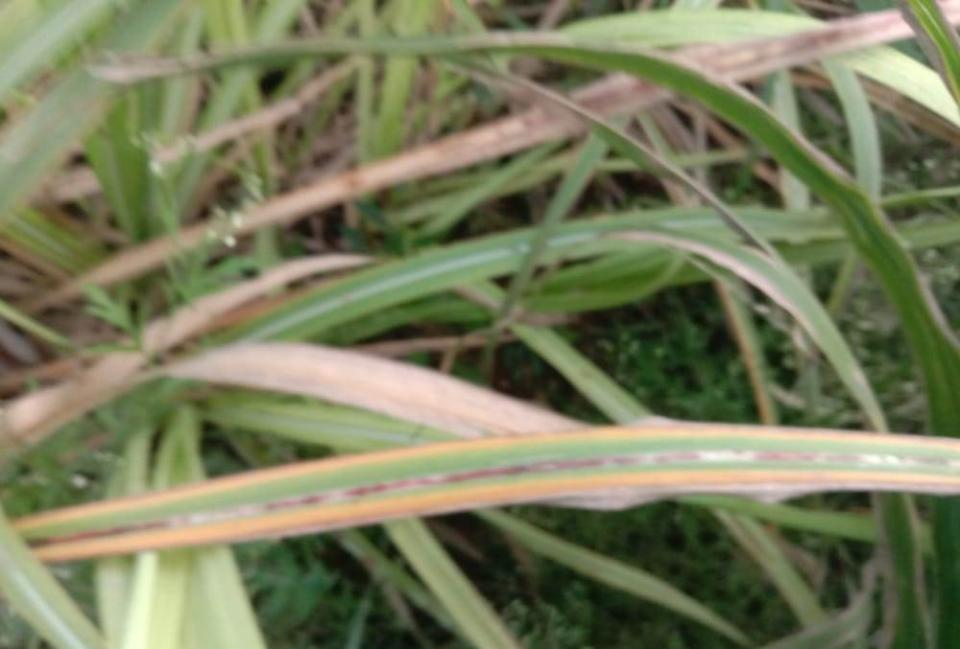RedRot: (25, 449, 957, 550)
Yellow: (7, 425, 959, 533), (36, 471, 959, 564)
